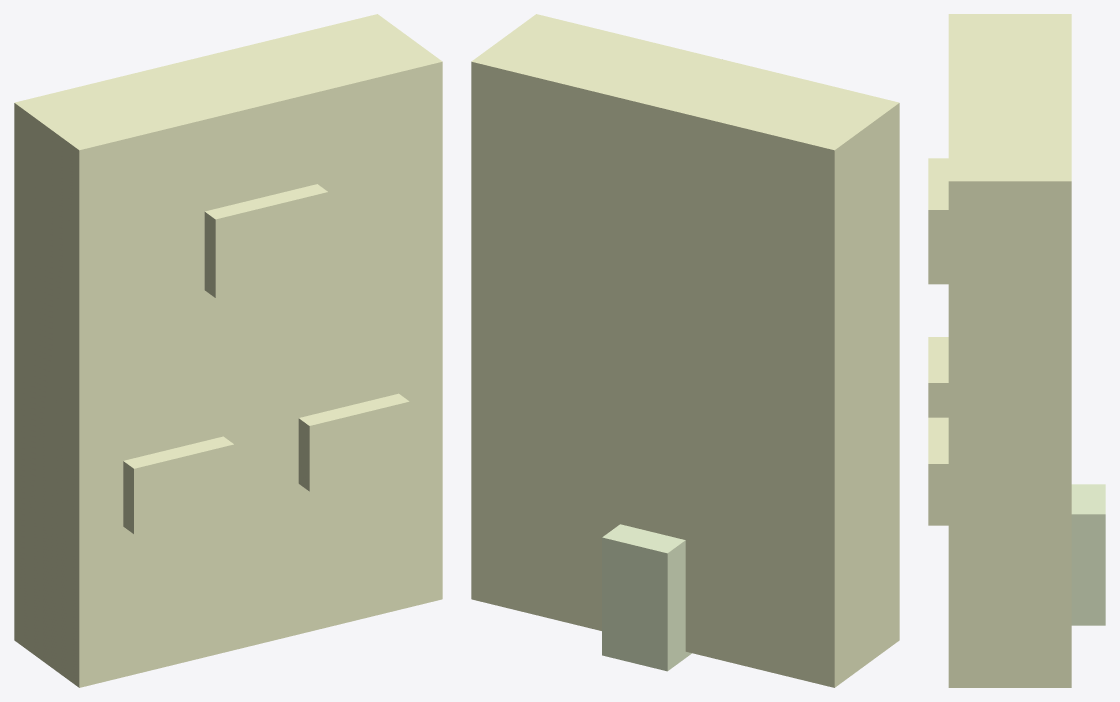
Rendered from signal_transit_priority_t_3_aspect.glb.
The picture shows the model from 3 angles, left to right: view 1: azimuth 30°, elevation 25°; view 2: azimuth 150°, elevation 25°; view 3: azimuth 270°, elevation 25°; orthographic projection. The views are drawn at different scales.
Parts seen in each view (by area): view 1: housing, display_bar_stop, display_bar_go, display_bar_hold; view 2: housing, bracket; view 3: housing, bracket, display_bar_stop, display_bar_go, display_bar_hold.
Part boxes in pixels (left/top/right/bottom): housing: left=14, top=14, right=442, bottom=687; display_bar_stop: left=204, top=184, right=328, bottom=297; display_bar_go: left=298, top=393, right=409, bottom=491; display_bar_hold: left=123, top=436, right=234, bottom=534; housing: left=471, top=14, right=899, bottom=687; bracket: left=602, top=524, right=691, bottom=671; housing: left=948, top=14, right=1071, bottom=687; bracket: left=1071, top=484, right=1105, bottom=625; display_bar_stop: left=928, top=158, right=948, bottom=284; display_bar_go: left=928, top=417, right=948, bottom=525; display_bar_hold: left=928, top=337, right=948, bottom=417.
Size of the model in its own units: 0.58 by 0.83 by 0.26.
